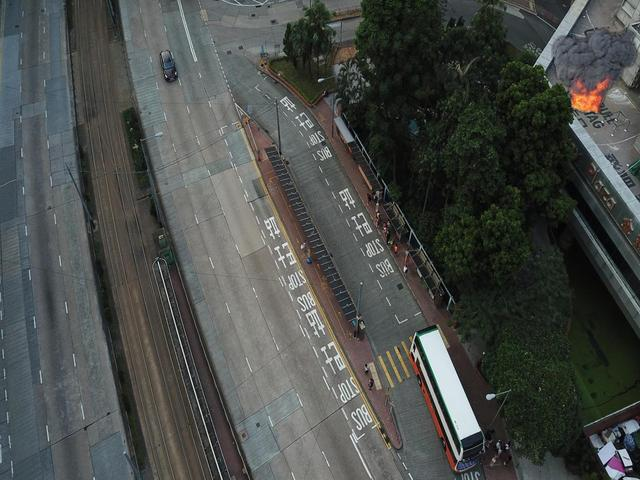fire: (552, 27, 636, 113)
